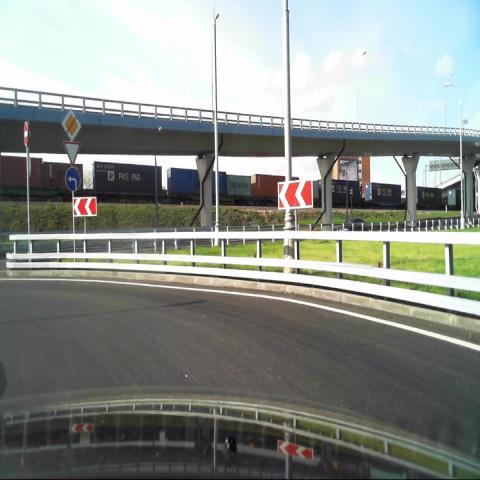3_1: (22, 118, 30, 148)
4_1_3: (65, 166, 82, 193)
